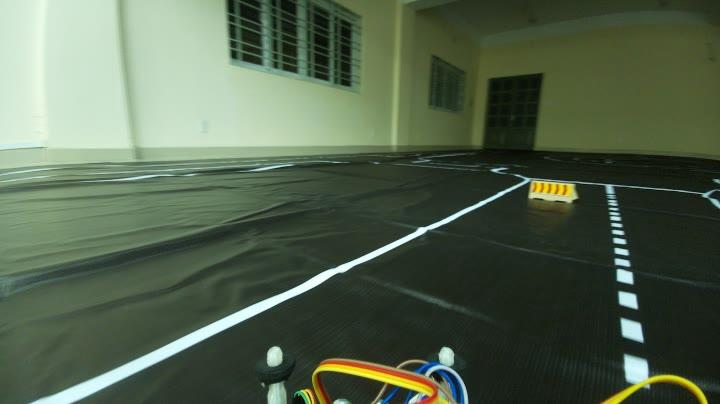roadblock: (524, 178, 584, 204)
